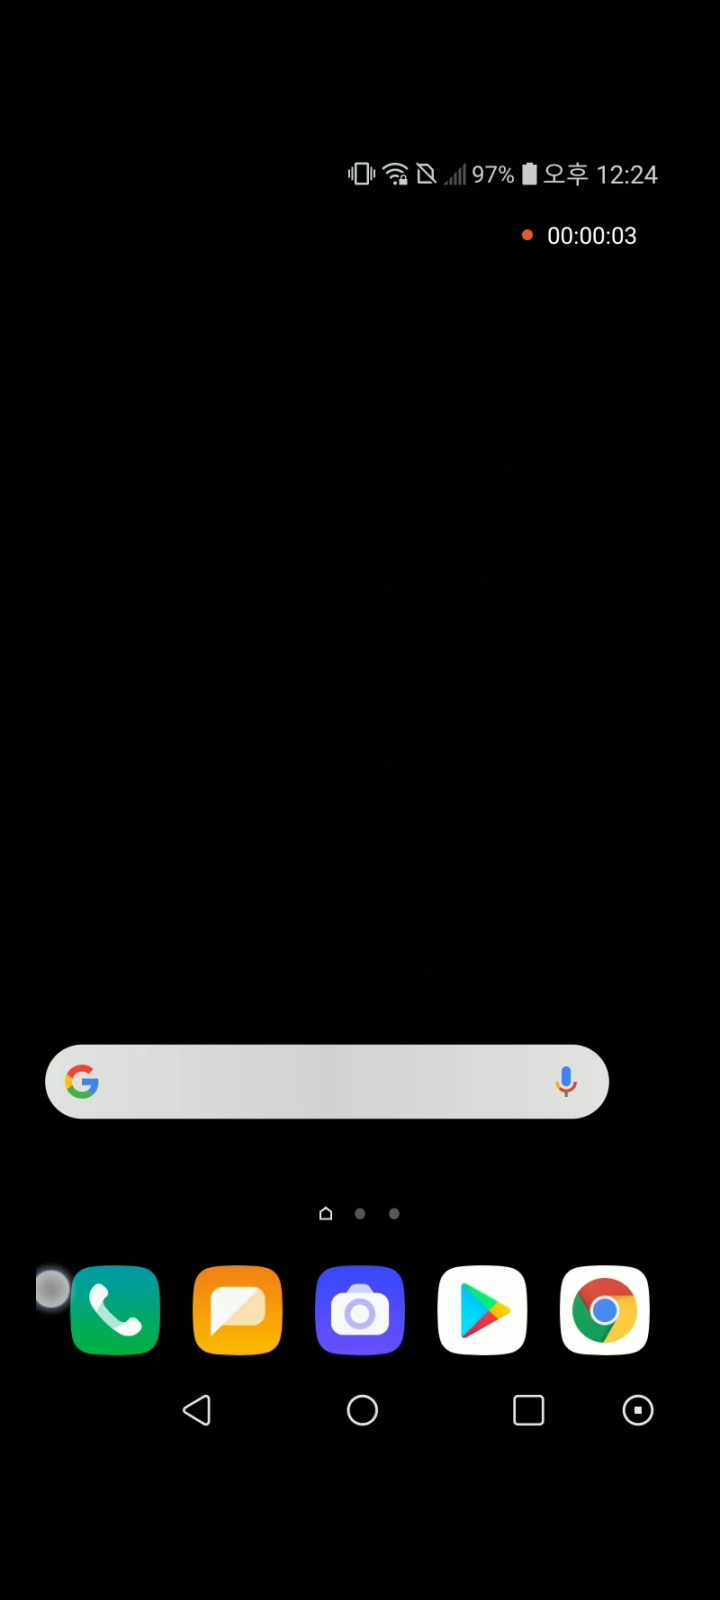Cursor: (37, 1268, 74, 1313)
